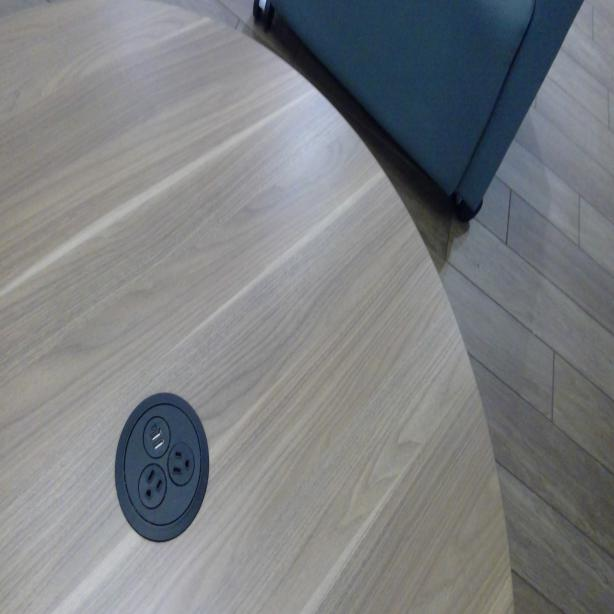typeb: (168, 442, 193, 482), (140, 468, 164, 505)
